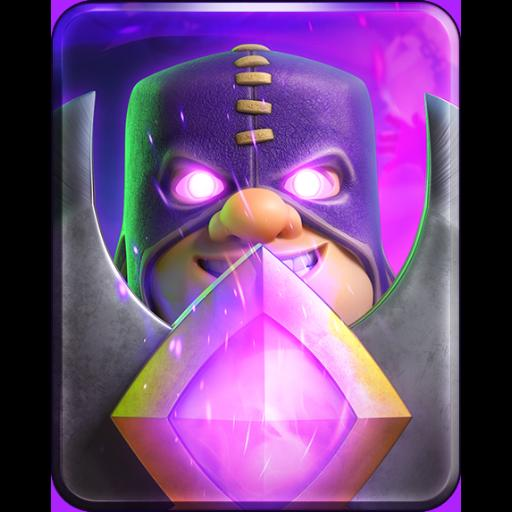executioner-evo: (62, 8, 454, 504)
